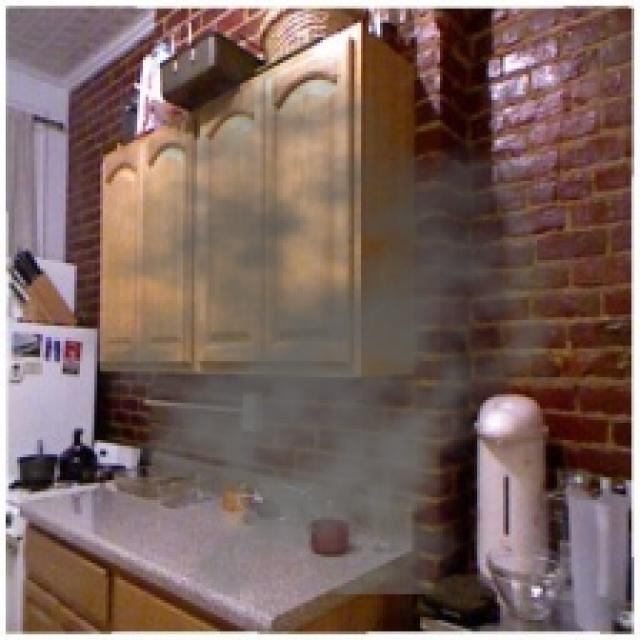smoke: (43, 66, 583, 594)
